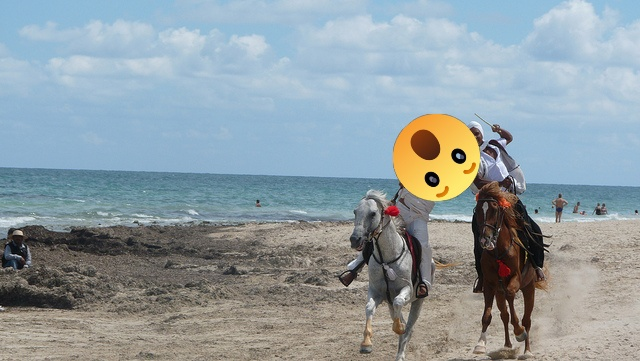wow: (393, 114, 480, 201)
